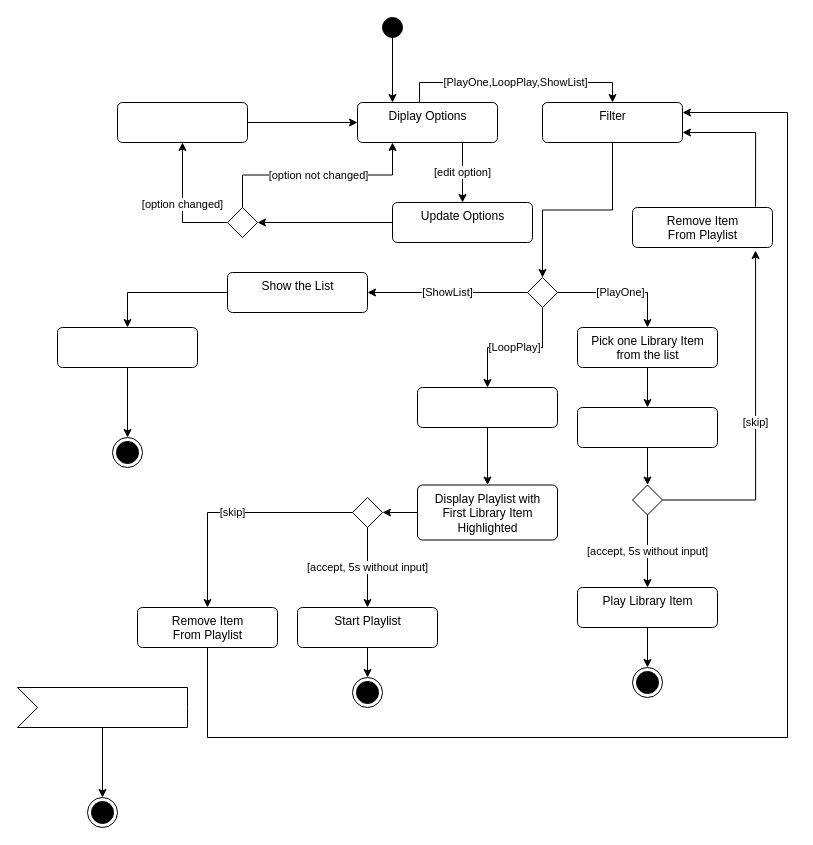
Some shapes in this 813 by 845 pixel diagram are drawn without their labels. Here are the shapes that lost their labels. From the top down, the centre of each, then its label:
point (182, 122): Load Options
point (127, 347): Play Selected Library Item
point (487, 407): Create a PlayList
point (647, 427): Show Library Item to be played
point (102, 707): ShutDown Time Reached
